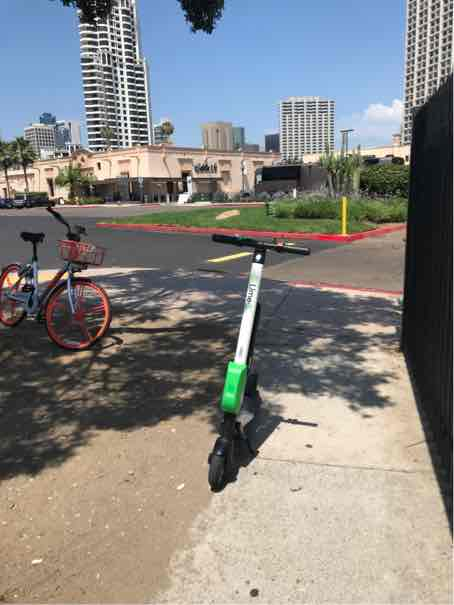scooter: (200, 226, 318, 498)
